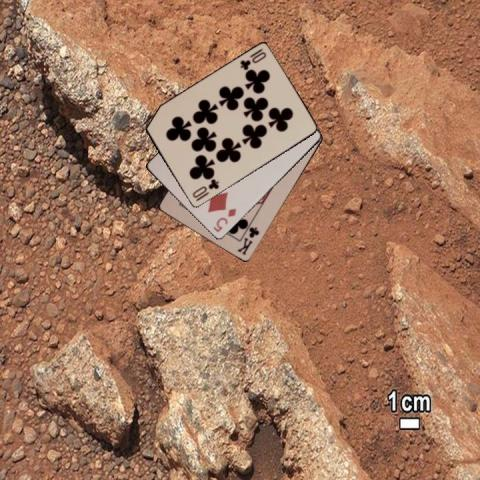10c: (189, 176, 221, 203), (237, 46, 267, 72)
5d: (210, 205, 238, 234)
Kc: (234, 224, 260, 257)
